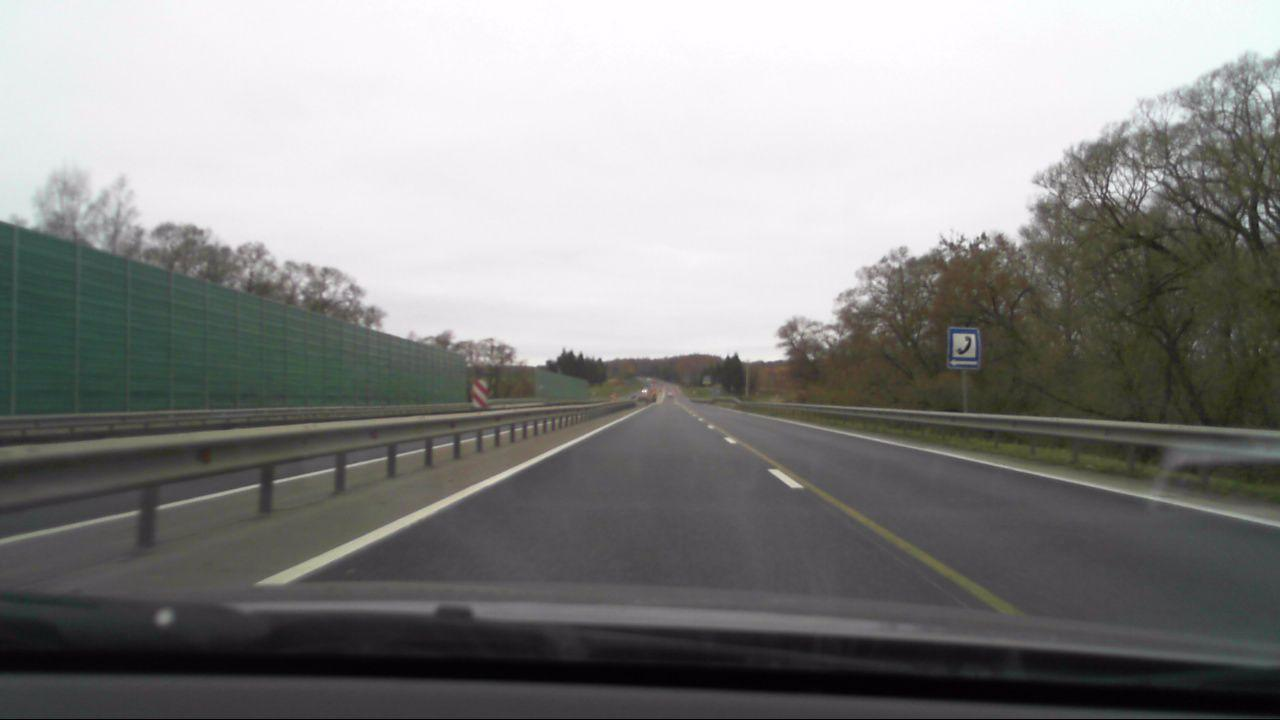7_6: (948, 325, 983, 369)
8_22_1: (469, 379, 489, 409)
